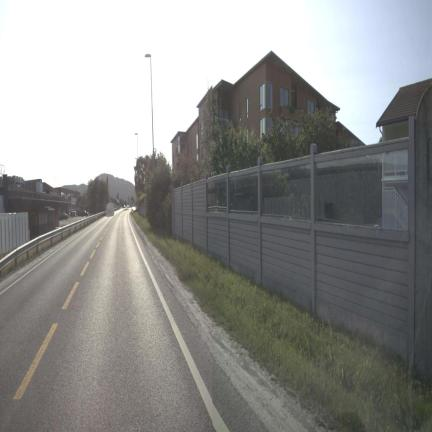Road: (0, 210, 268, 430)
